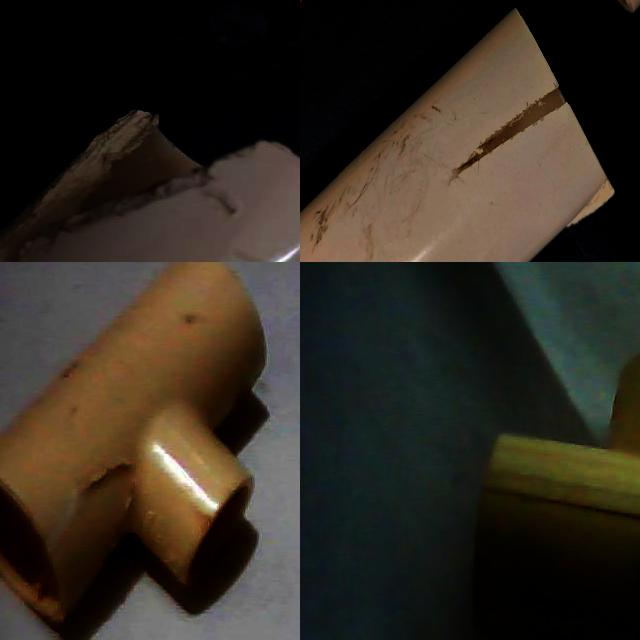Defective: (95, 104, 275, 211), (45, 459, 144, 598), (307, 0, 409, 105), (524, 91, 586, 246), (26, 176, 124, 255), (596, 26, 626, 92)
T Joint: (0, 262, 267, 626), (472, 355, 640, 640), (462, 6, 640, 262)
